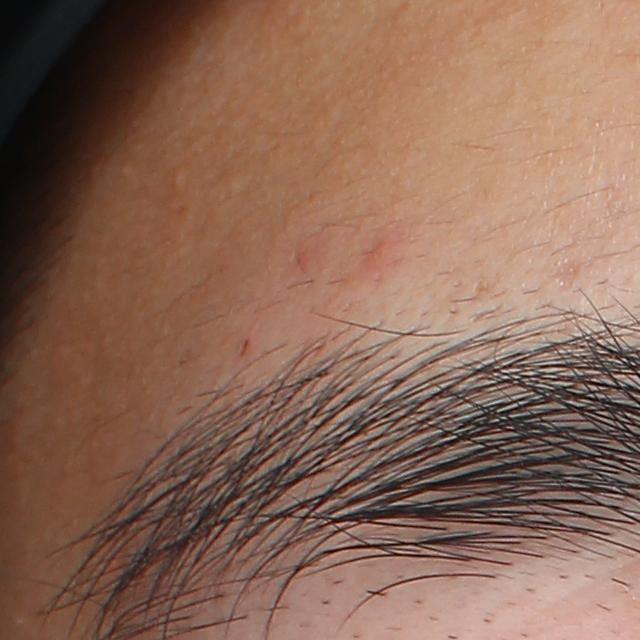atrophic_scar: (556, 257, 581, 294)
comedo: (169, 169, 184, 190)
